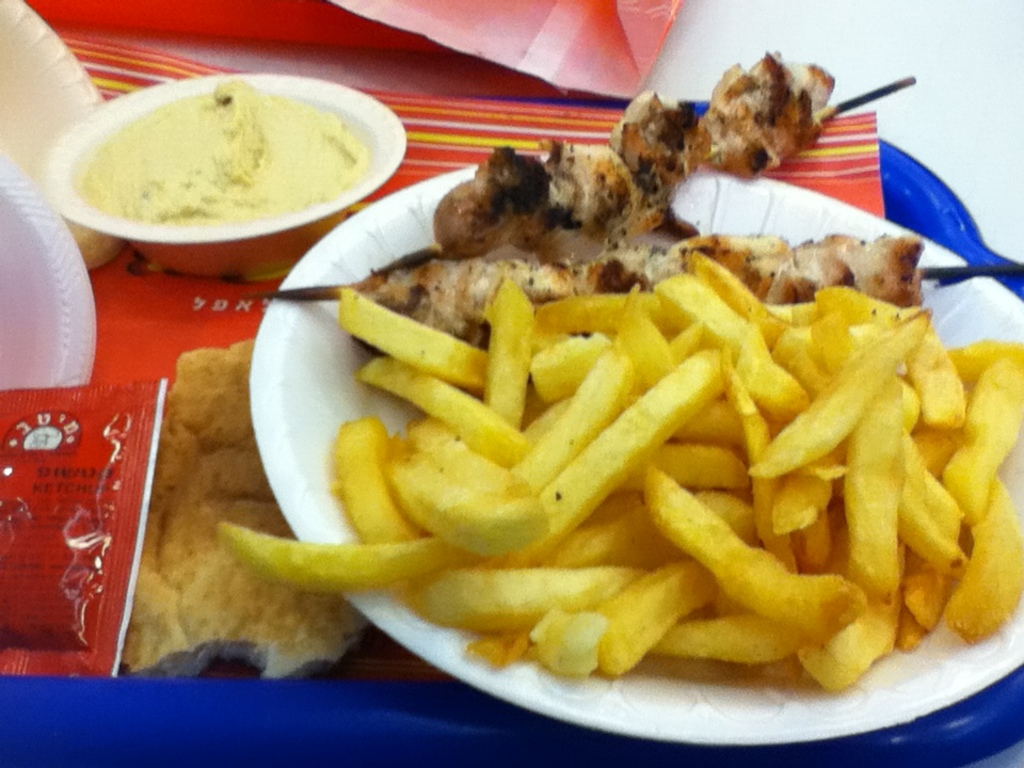French fries: (282, 180, 998, 710)
